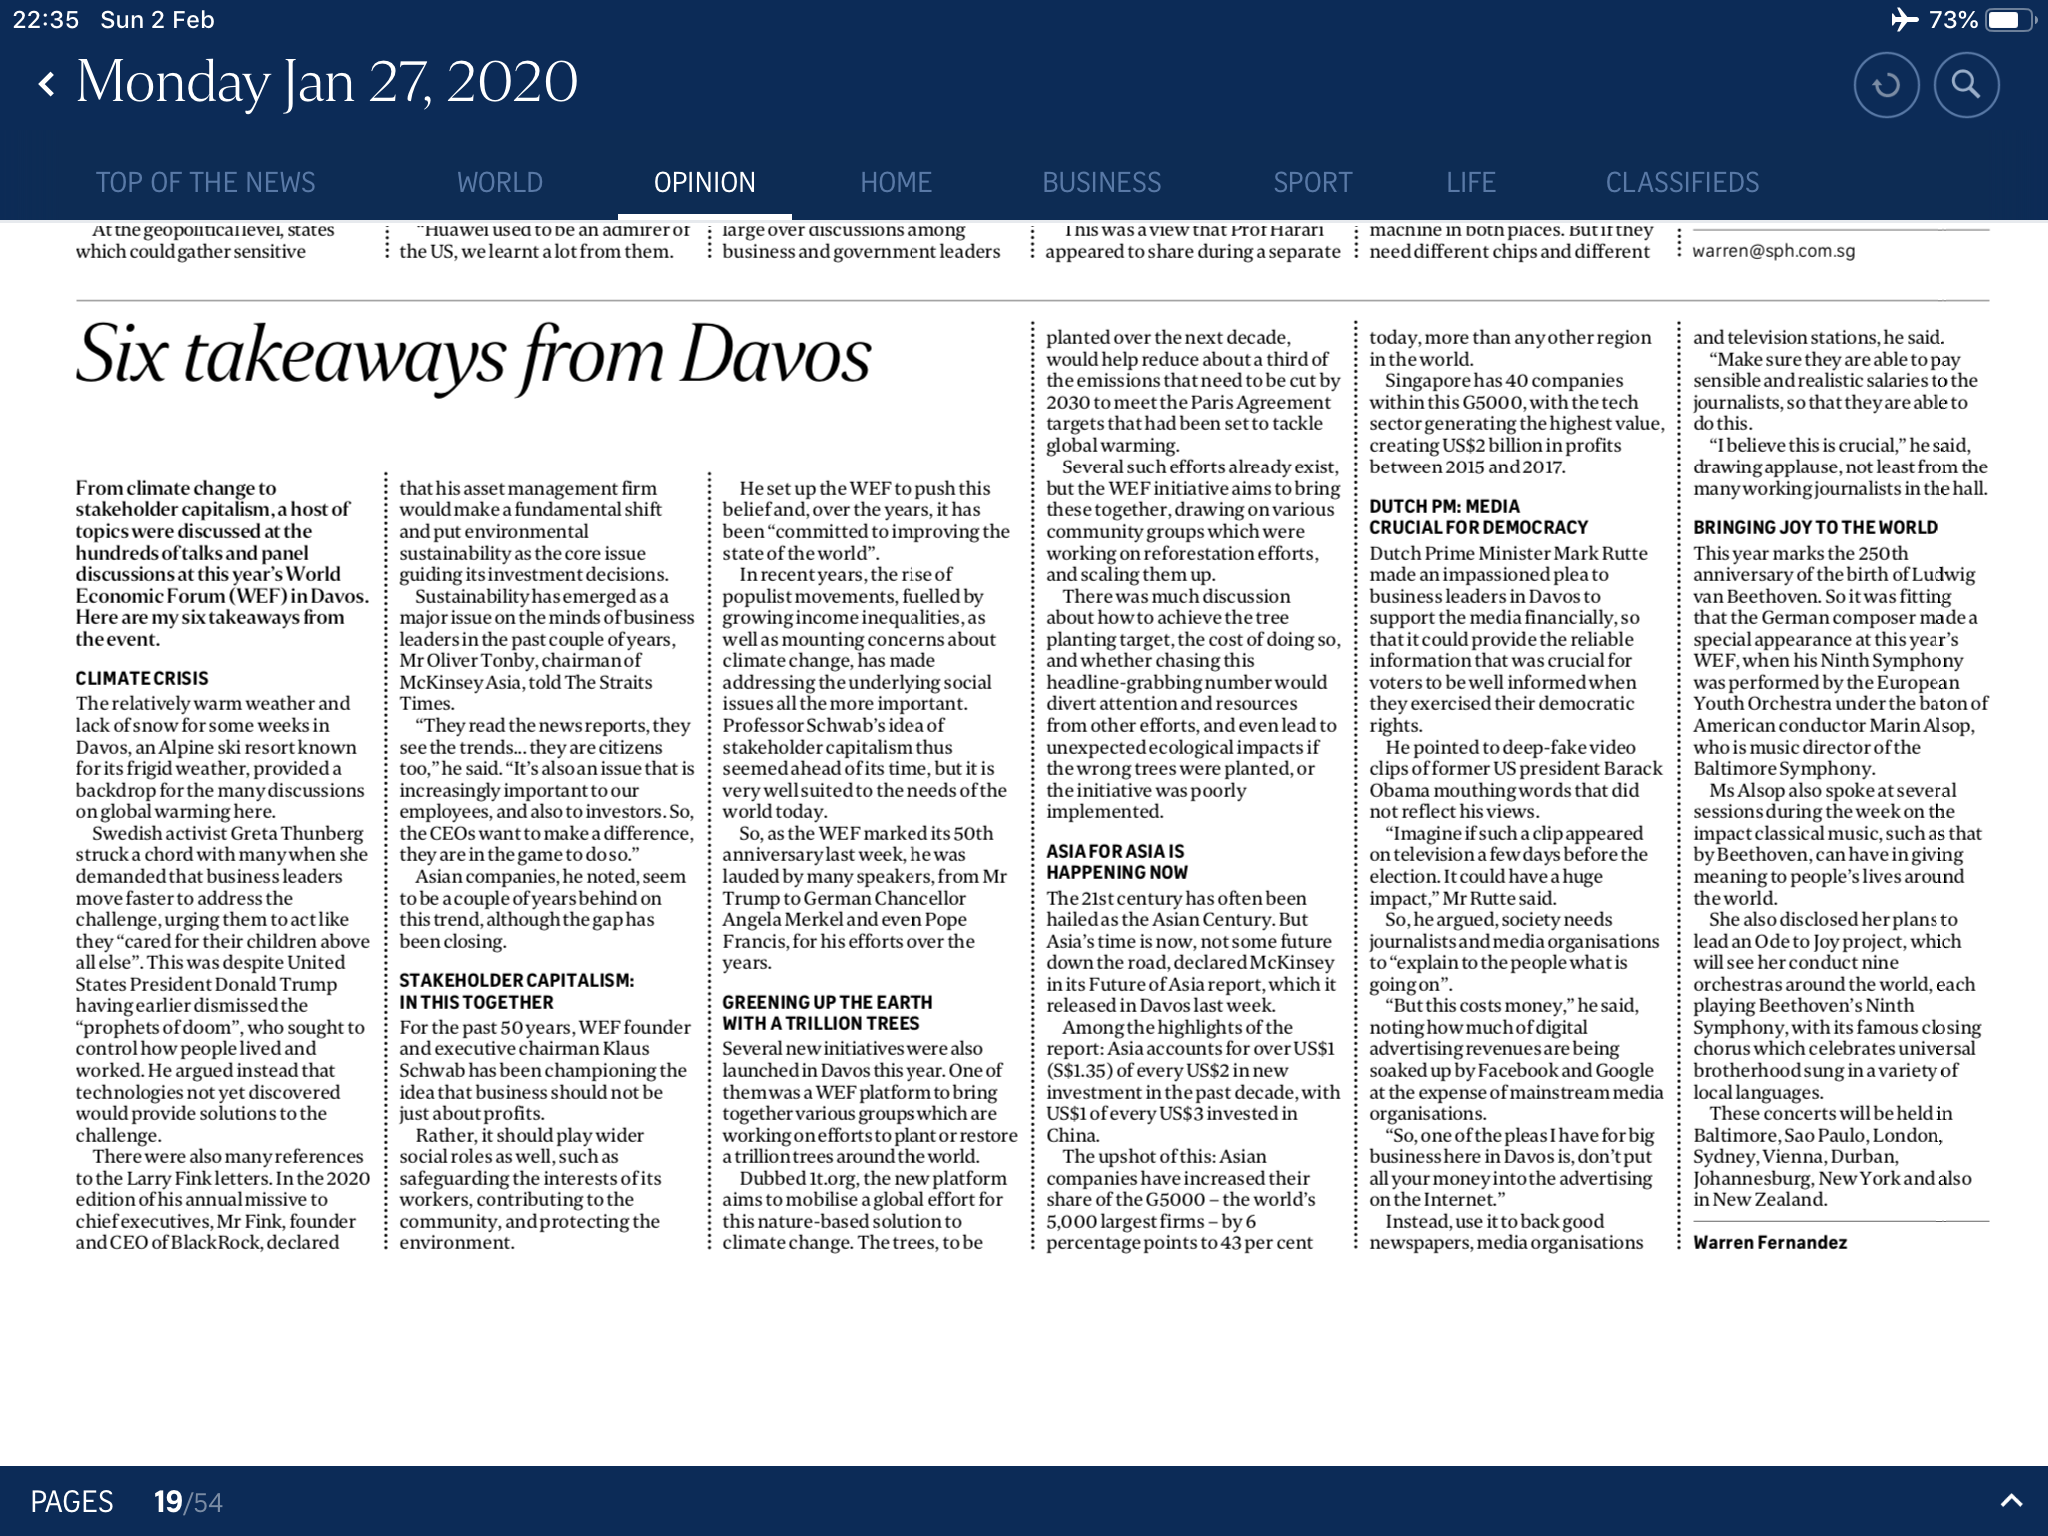Byline: (1690, 1233, 1850, 1255)
Headline: (74, 315, 884, 403)
Text: (1364, 328, 1664, 1262), (1040, 324, 1338, 1257), (1688, 323, 1990, 1212), (71, 479, 369, 1257), (397, 479, 695, 1257), (719, 473, 1018, 1250)
